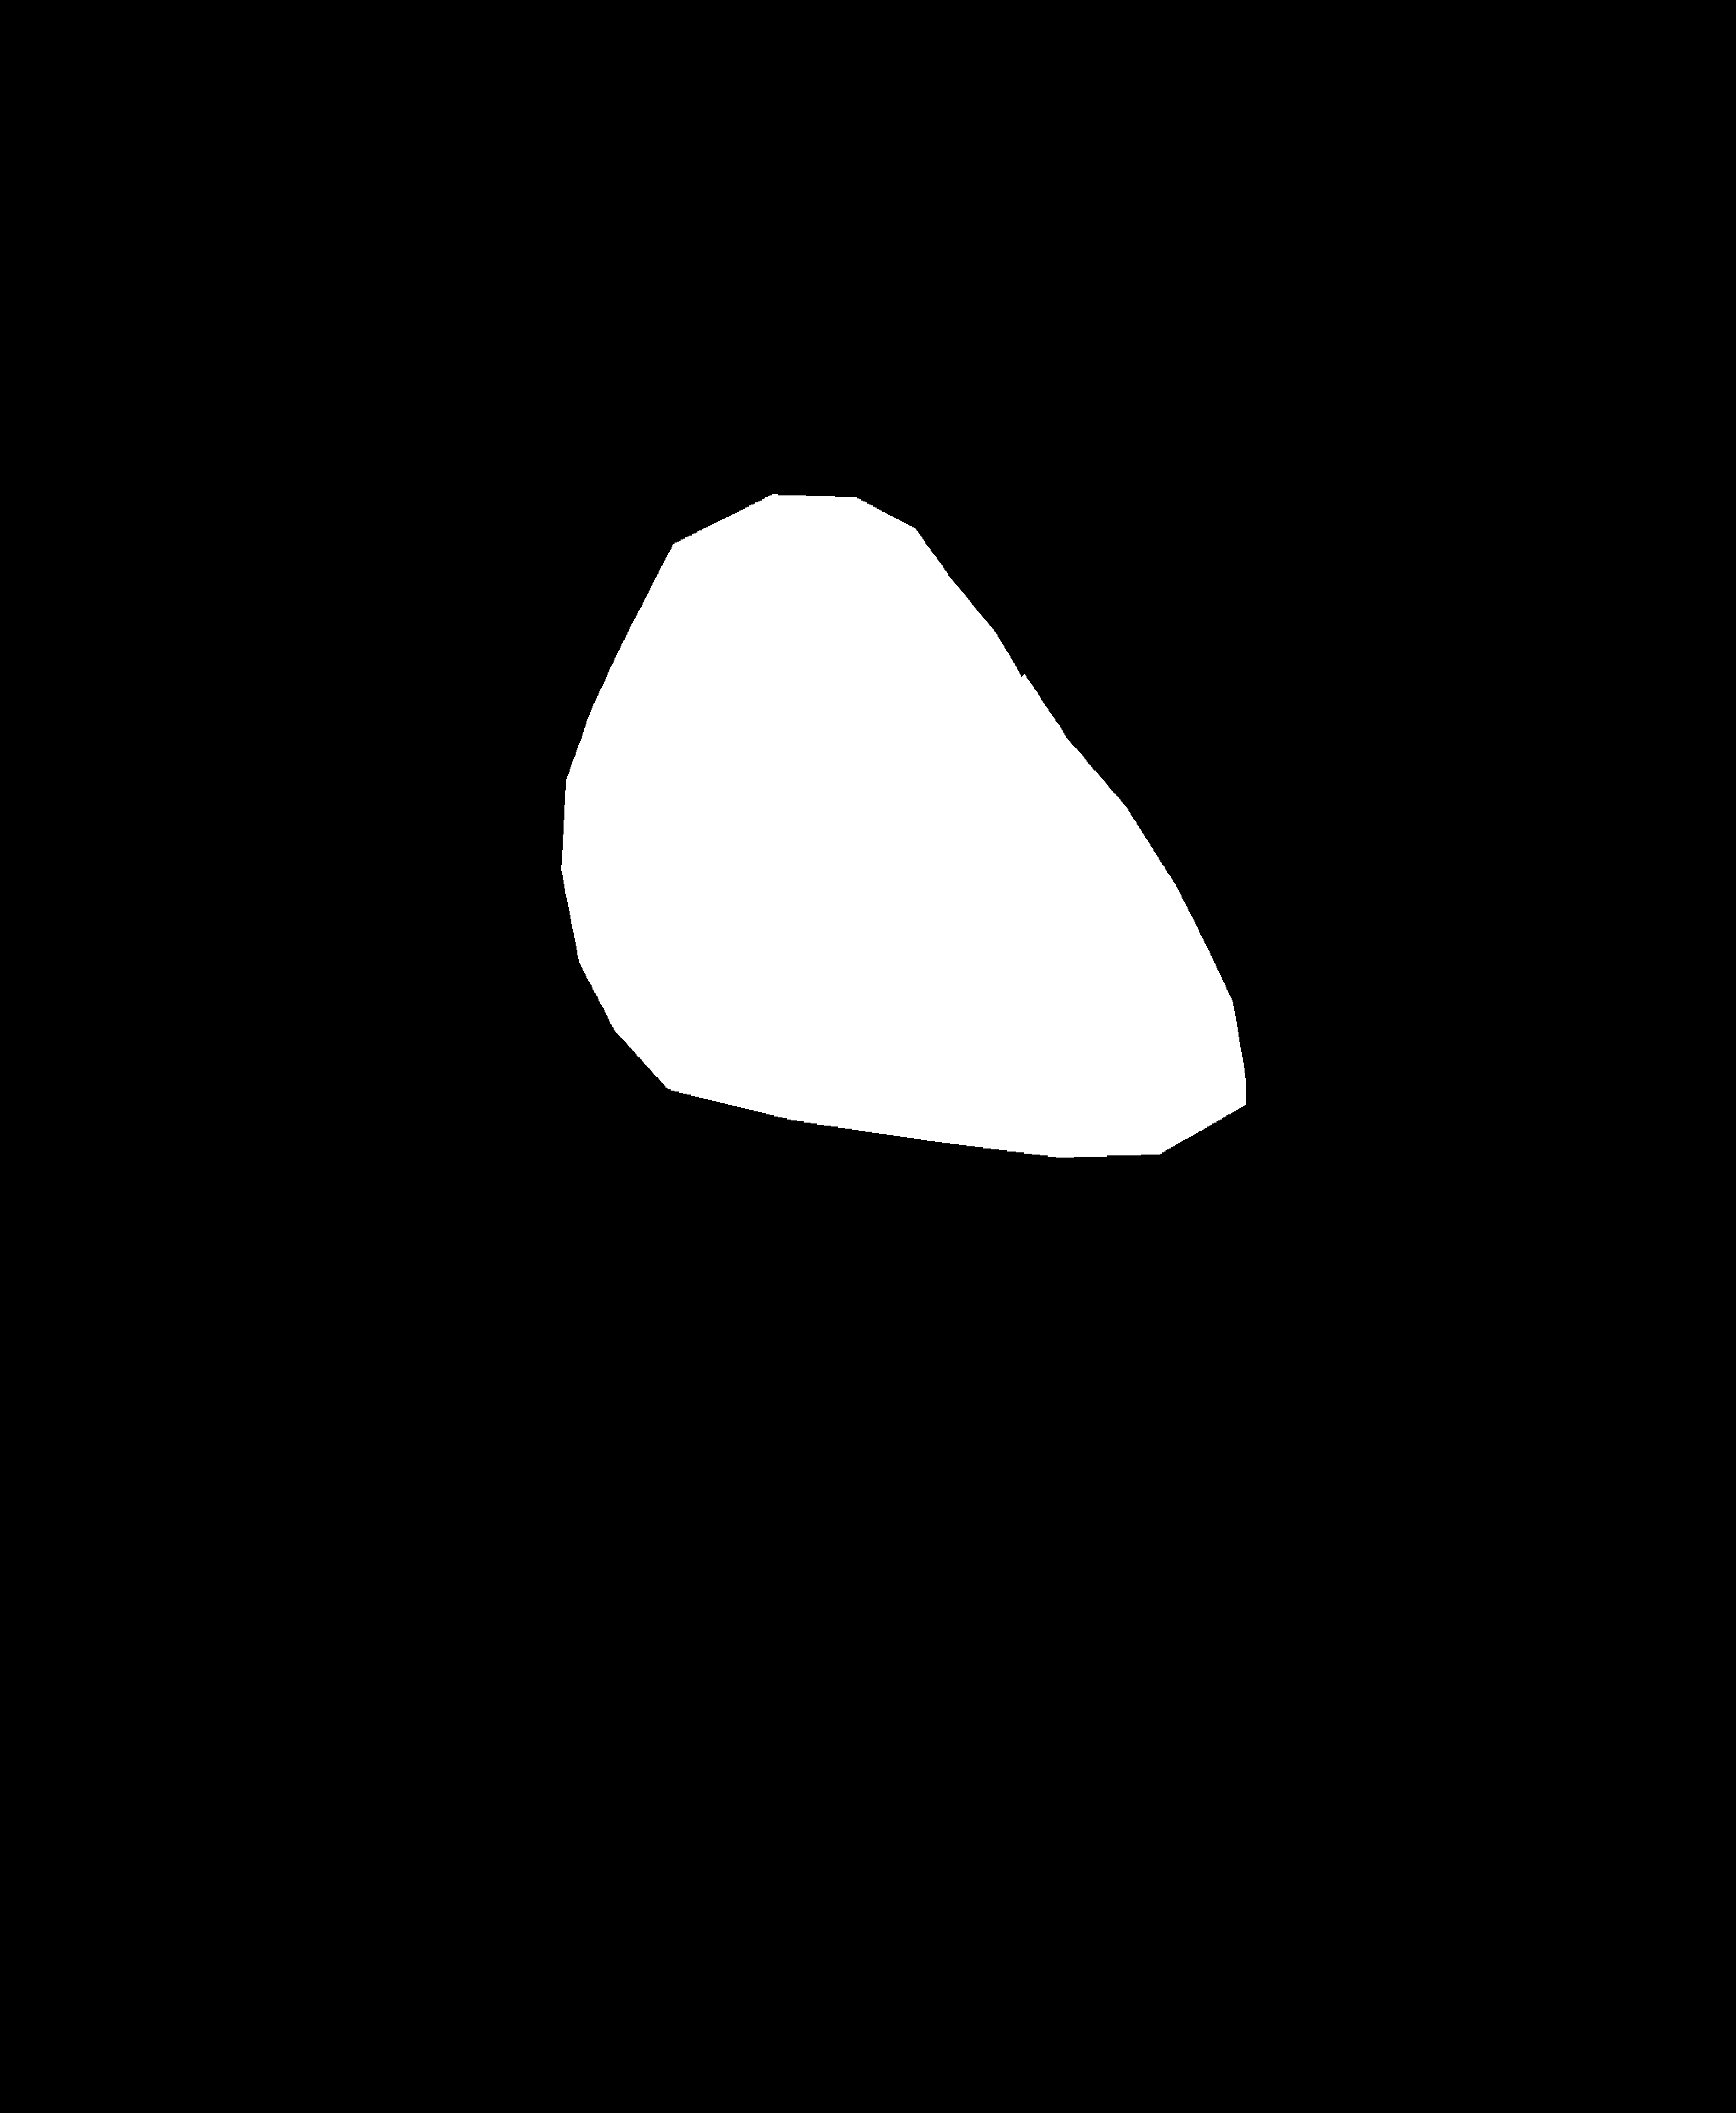heart: (555, 637, 1253, 1204)
left_lung: (132, 121, 730, 1297)
right_lung: (864, 97, 1538, 1325)
